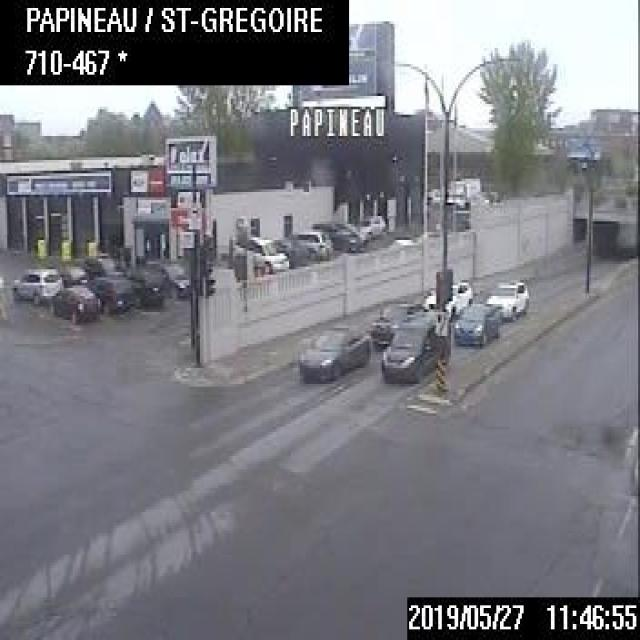vehicle: (379, 312, 449, 384), (298, 324, 371, 382), (230, 229, 289, 275), (371, 299, 419, 347), (50, 280, 102, 324), (451, 298, 499, 344), (484, 276, 530, 322), (8, 265, 62, 304), (422, 273, 472, 315), (88, 273, 134, 314), (314, 217, 363, 255), (150, 259, 188, 298), (126, 268, 164, 305), (290, 226, 330, 260), (272, 234, 308, 266), (355, 210, 389, 238), (82, 252, 115, 274), (57, 264, 87, 282)
